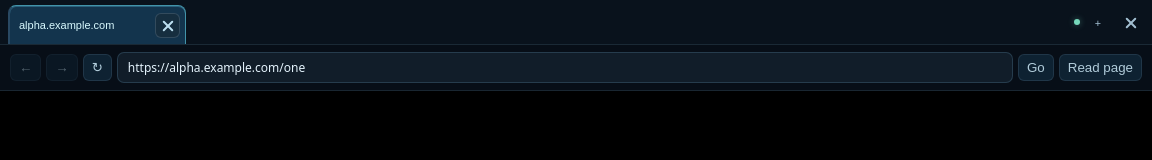
Test case: the toolbar › shows a refusal rather than swallowing it
Expected: the tab "alpha.example.com" is shown, [19, 18, 151, 32]
Replace the text in the field named "Browser address or search" with "http://192.168.0.1/": (565, 68) [117, 52, 1013, 83]
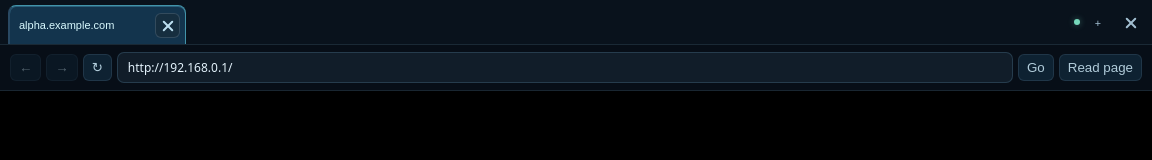
Click the button "Go": click(1036, 68) [1018, 54, 1054, 81]
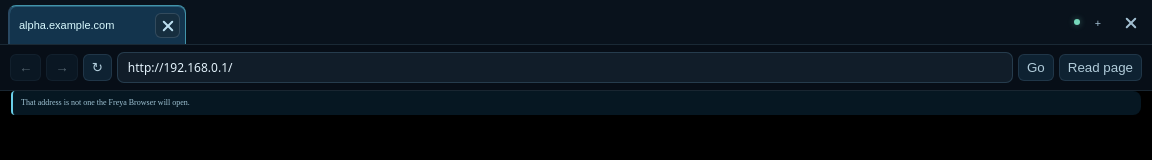
Result: the message with class "chats-browser-notice" shows "not one the Freya Browser will open" at [21, 98, 190, 107]
